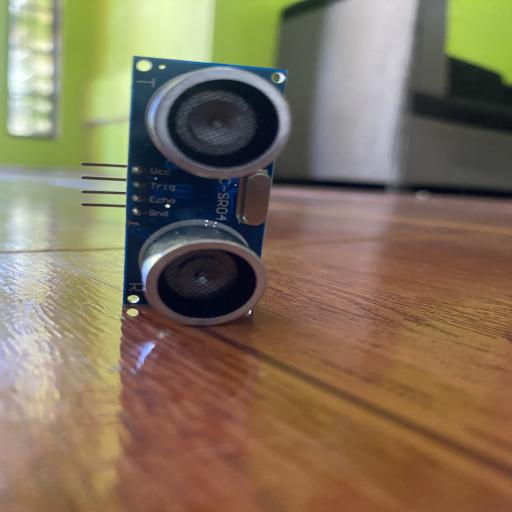Ultrasonic Sensor: (79, 52, 293, 326)
